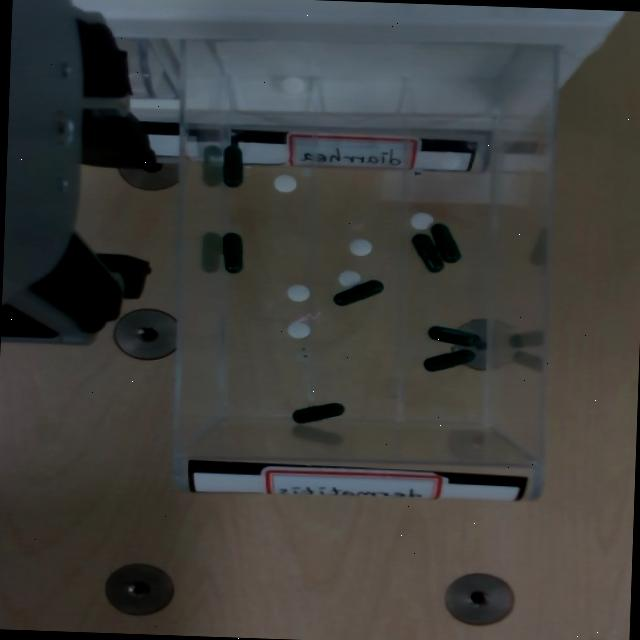ganakan_tab: (407, 210, 434, 231), (270, 174, 298, 194), (284, 282, 312, 302), (346, 237, 373, 257), (335, 268, 362, 288), (283, 320, 311, 339), (278, 76, 307, 94), (278, 77, 306, 93), (287, 321, 310, 339), (337, 271, 360, 288), (348, 239, 371, 256), (410, 213, 433, 230), (273, 175, 295, 192), (285, 285, 308, 301)
monodoxy_cap: (332, 278, 385, 308), (408, 233, 445, 273), (427, 222, 462, 263), (292, 400, 348, 425), (422, 348, 476, 373), (332, 280, 382, 306), (411, 234, 443, 273), (430, 224, 460, 263), (425, 324, 479, 345), (220, 232, 246, 274), (422, 350, 474, 371), (221, 145, 246, 188), (292, 404, 344, 424), (428, 327, 480, 347), (221, 146, 242, 188), (221, 233, 242, 273)
